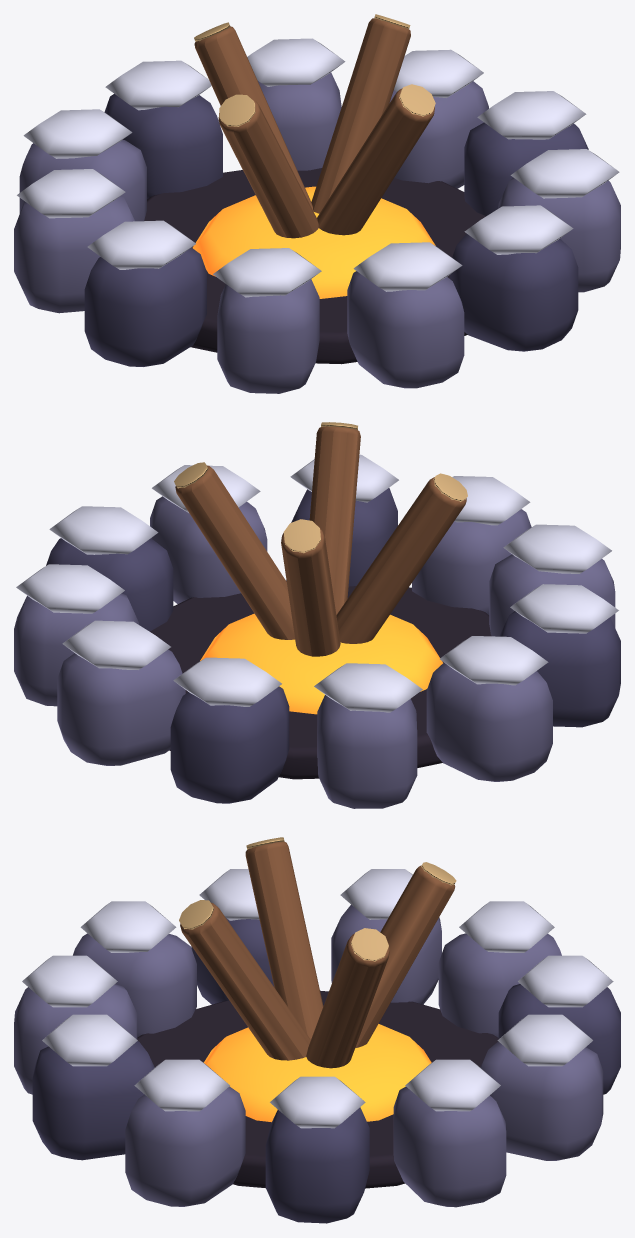
File: frost_fire_pit.glb
3 views of the same model, one above another, from view 1: azimuth 30°, elevation 25°; view 2: azimuth 150°, elevation 25°; view 3: azimuth 270°, elevation 25° (orthographic).
Parts seen in each view (by area): view 1: FirePit; view 2: FirePit; view 3: FirePit.
Part boxes in pixels (x1=…): FirePit: x1=14, y1=14, x2=620, y2=393; FirePit: x1=14, y1=422, x2=620, y2=808; FirePit: x1=14, y1=837, x2=620, y2=1223.
Size of the model in its own units: 2.08 by 0.8969 by 2.08.
